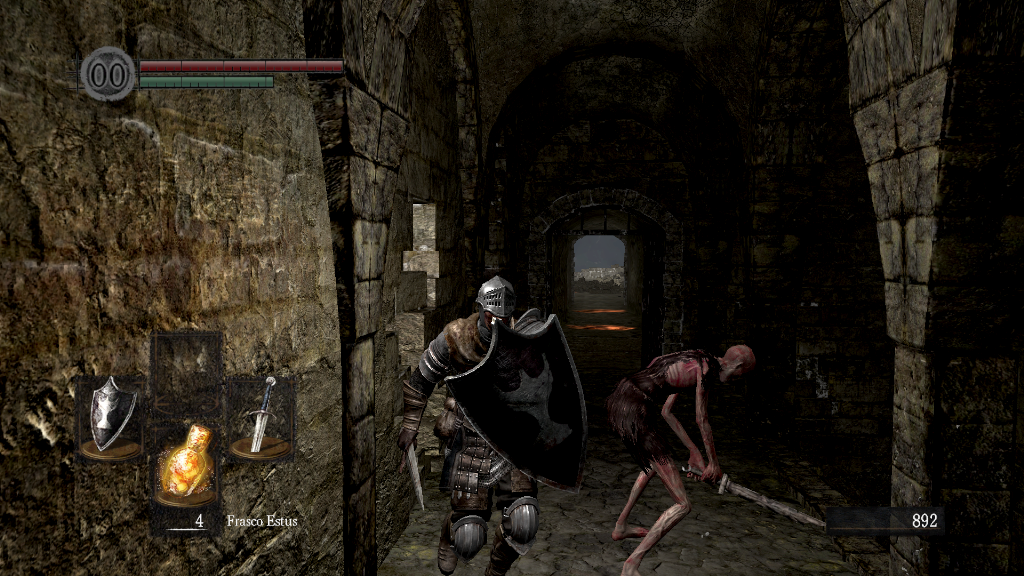health: (138, 58, 343, 71)
hollow: (604, 303, 829, 576)
humanity: (80, 45, 136, 102)
player: (400, 274, 591, 576)
souls: (825, 506, 945, 536)
stamina: (138, 74, 274, 88)
